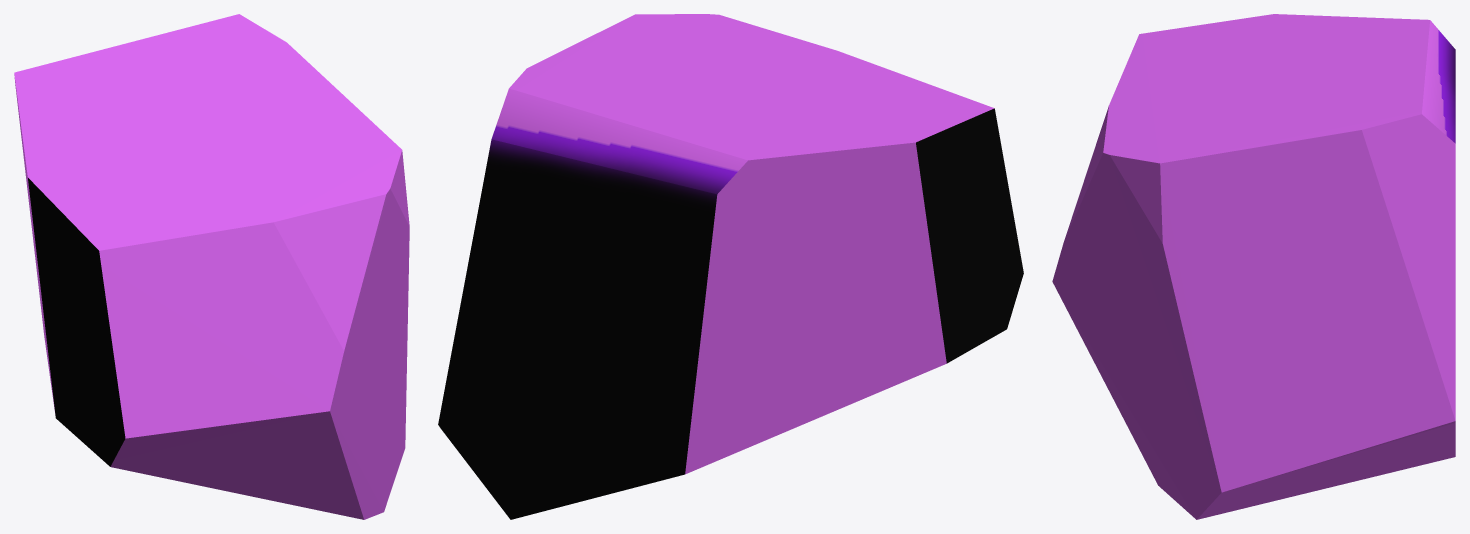
The model's file is blockParticle_9.gltf.
The picture shows the model from 3 angles, left to right: view 1: azimuth 30°, elevation 25°; view 2: azimuth 150°, elevation 25°; view 3: azimuth 270°, elevation 25°; orthographic projection. The views are drawn at different scales.
Visible parts, largest first — view 1: 立方体_cell.010; view 2: 立方体_cell.010; view 3: 立方体_cell.010.
Part boxes in pixels (x1,y1,x2,y2): 立方体_cell.010: (14,14,409,519); 立方体_cell.010: (438,14,1023,519); 立方体_cell.010: (1052,14,1455,519).
Bounding box in the file's own units: 1.24 × 1.41 × 1.31.
Materials: 2 (2 with a texture image).
